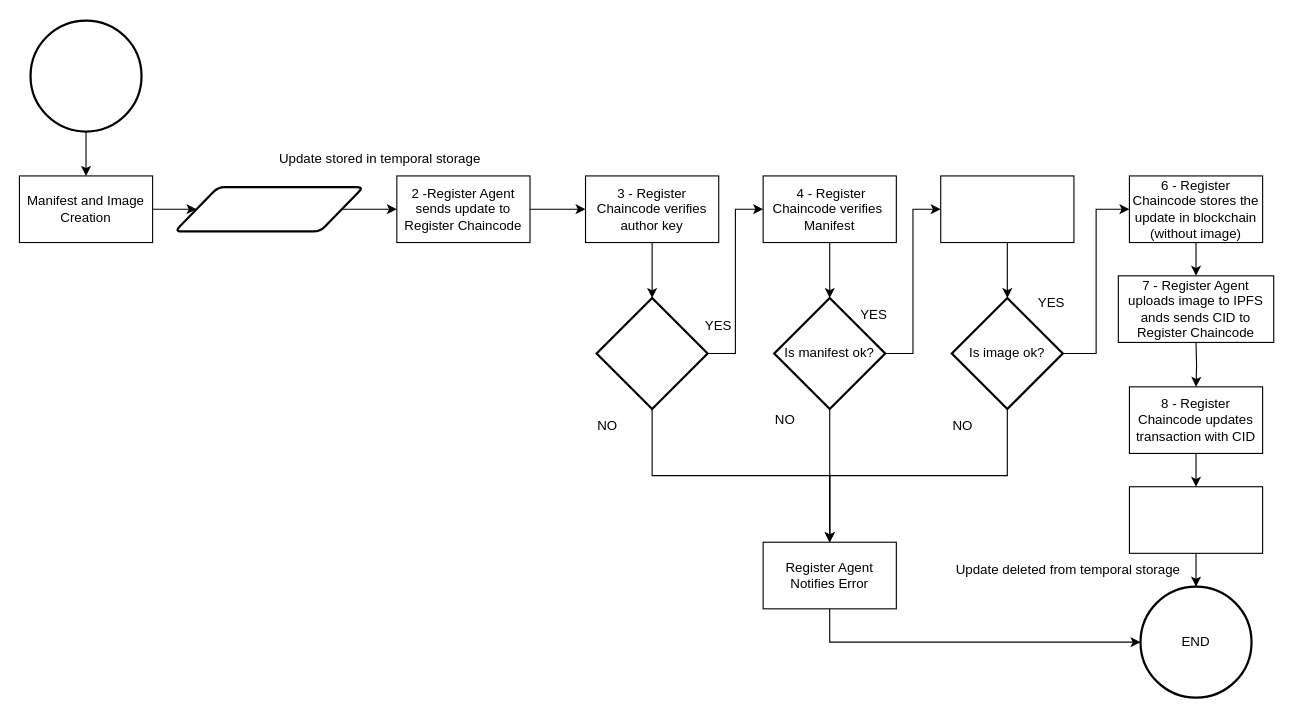
Image size: 1293x717. Some labels were removed from this diagram. The centre of each missing label's shape, as x and y in pixels:
1 - Author requests update register: (268,208)
5 - Register Chaincode verifies Image: (1007,209)
Is key registered?: (651,353)
Register Agent notifies Success: (1195,519)
Start: (85,75)
